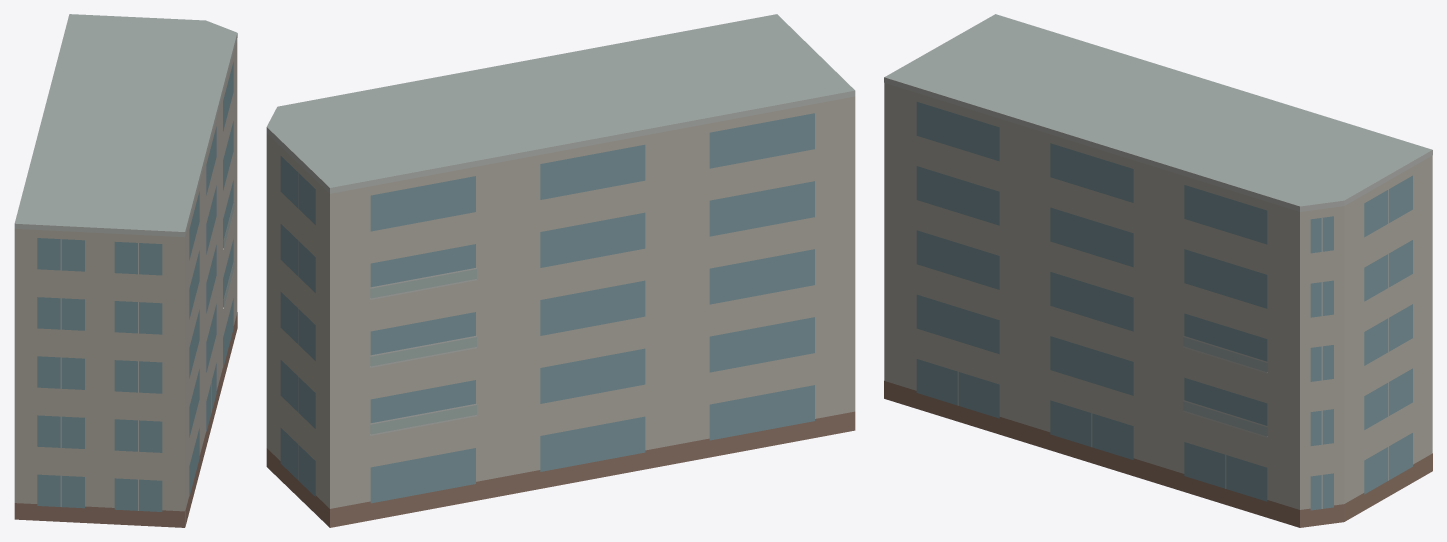
Rendered from survey-upis-32655468.glb.
3 views of the same model, side by side, from view 1: azimuth 30°, elevation 25°; view 2: azimuth 150°, elevation 25°; view 3: azimuth 270°, elevation 25° (orthographic). The views are drawn at different scales.
Parts seen in each view (by area): view 1: survey-upis-32655468.tmp; view 2: survey-upis-32655468.tmp; view 3: survey-upis-32655468.tmp.
Boxes of the visible parts, x1,y1,x2,y2 form: survey-upis-32655468.tmp: (14, 14, 237, 527); survey-upis-32655468.tmp: (266, 14, 855, 527); survey-upis-32655468.tmp: (884, 14, 1432, 527).
Size of the model in its own units: 18.37 by 14.3 by 22.13.
